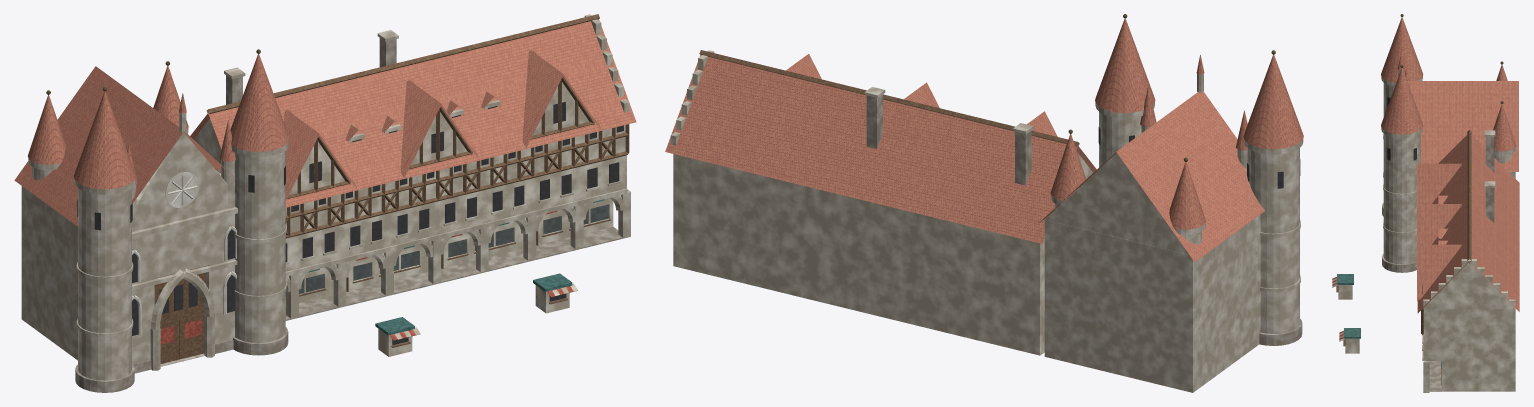
Rendered from LotteWorld_NWCorner.fbx.
The picture shows the model from 3 angles, left to right: view 1: azimuth 30°, elevation 25°; view 2: azimuth 150°, elevation 25°; view 3: azimuth 270°, elevation 25°; orthographic projection. The views are drawn at different scales.
Visible parts, largest first — view 1: Gatehouse_NW_Stone, ShopHall_NW_RoofTile, ShopHall_NW_Cream, Gatehouse_NW_RoofTile, ShopHall_NW_Timber, ShopHall_NW_Stone, ShopHall_NW_Plinth, ShopHall_NW_Recess, ShopHall_NW_Glass, Gatehouse_NW_Plinth, Gatehouse_NW_White, Gatehouse_NW_Recess (+5 smaller); view 2: Gatehouse_NW_Stone, ShopHall_NW_Cream, ShopHall_NW_RoofTile, Gatehouse_NW_RoofTile, ShopHall_NW_Timber, ShopHall_NW_Plinth, Gatehouse_NW_Plinth; view 3: ShopHall_NW_RoofTile, Gatehouse_NW_RoofTile, ShopHall_NW_Cream, Gatehouse_NW_Stone, ShopHall_NW_Plinth, ShopHall_NW_Timber, Booths_NW_Cream, ShopHall_NW_Stone, Booths_NW_Teal, Gatehouse_NW_Plinth.
Part boxes in pixels (x1=…): Gatehouse_NW_Stone: x1=21, y1=113, x2=289, y2=380; ShopHall_NW_RoofTile: x1=190, y1=19, x2=636, y2=207; ShopHall_NW_Cream: x1=194, y1=14, x2=629, y2=306; Gatehouse_NW_RoofTile: x1=14, y1=54, x2=289, y2=226; ShopHall_NW_Timber: x1=206, y1=14, x2=629, y2=299; ShopHall_NW_Stone: x1=224, y1=30, x2=630, y2=319; ShopHall_NW_Plinth: x1=226, y1=38, x2=626, y2=320; ShopHall_NW_Recess: x1=285, y1=101, x2=623, y2=262; ShopHall_NW_Glass: x1=285, y1=204, x2=608, y2=296; Gatehouse_NW_Plinth: x1=75, y1=327, x2=288, y2=392; Gatehouse_NW_White: x1=132, y1=172, x2=236, y2=335; Gatehouse_NW_Recess: x1=77, y1=199, x2=235, y2=335; Gatehouse_NW_Stone: x1=1044, y1=74, x2=1303, y2=392; ShopHall_NW_Cream: x1=670, y1=50, x2=1092, y2=355; ShopHall_NW_RoofTile: x1=665, y1=54, x2=1096, y2=243; Gatehouse_NW_RoofTile: x1=1039, y1=18, x2=1303, y2=261; ShopHall_NW_Timber: x1=699, y1=50, x2=1079, y2=146; ShopHall_NW_Plinth: x1=866, y1=94, x2=1031, y2=185; Gatehouse_NW_Plinth: x1=1259, y1=319, x2=1302, y2=345; ShopHall_NW_RoofTile: x1=1417, y1=135, x2=1519, y2=313; Gatehouse_NW_RoofTile: x1=1381, y1=17, x2=1518, y2=171; ShopHall_NW_Cream: x1=1423, y1=238, x2=1515, y2=391; Gatehouse_NW_Stone: x1=1381, y1=69, x2=1515, y2=264; ShopHall_NW_Plinth: x1=1429, y1=136, x2=1494, y2=391; ShopHall_NW_Timber: x1=1421, y1=130, x2=1471, y2=384; Booths_NW_Cream: x1=1332, y1=278, x2=1359, y2=353; ShopHall_NW_Stone: x1=1422, y1=130, x2=1495, y2=392; Booths_NW_Teal: x1=1337, y1=274, x2=1360, y2=338; Gatehouse_NW_Plinth: x1=1382, y1=203, x2=1416, y2=272.
Bounding box in the file's own units: 63.1 × 31.02 × 26.46.
